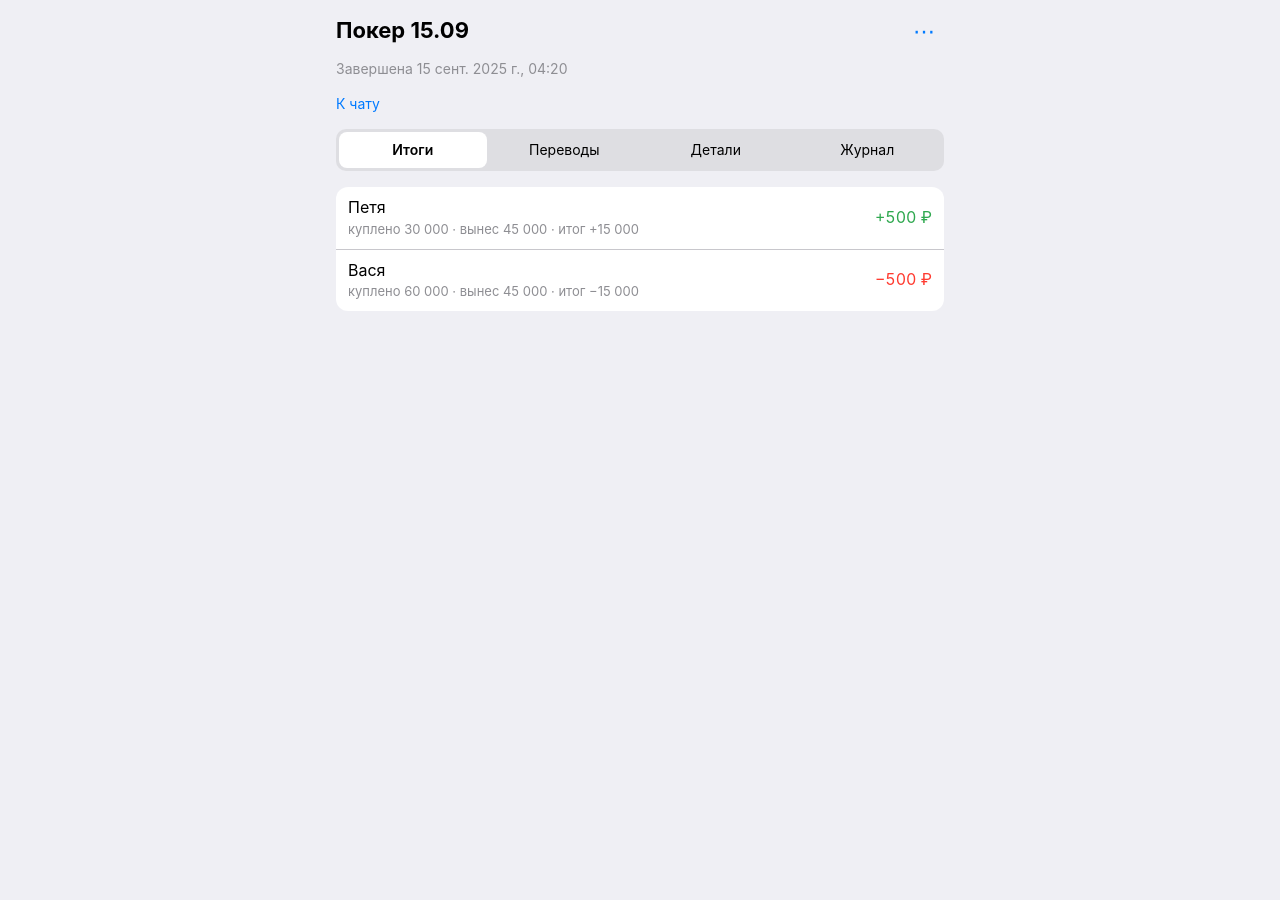
finished game menu › offers the running game when another one is active
Step 1. Click the button named "Меню" → (924, 32), box 904,12 -> 944,52
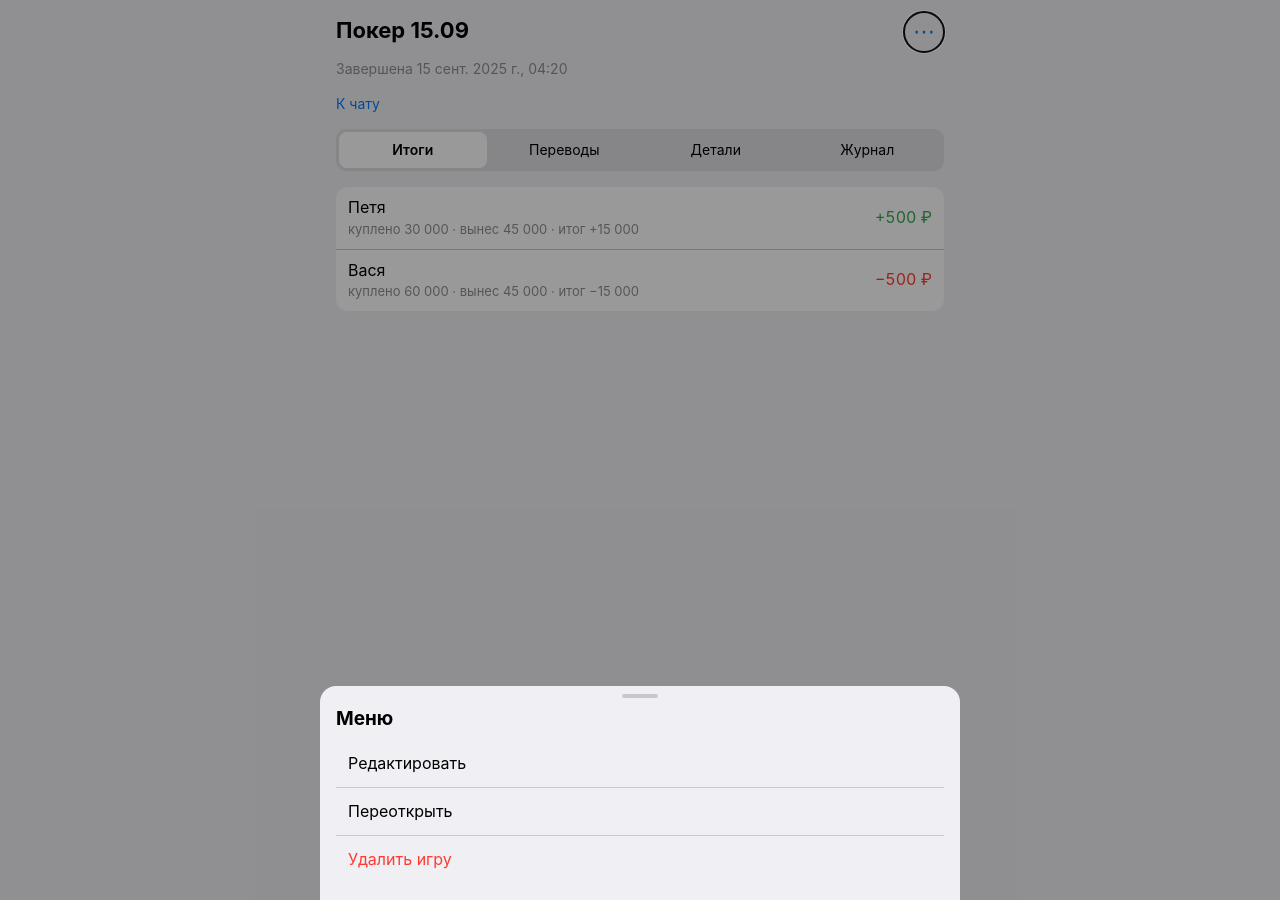
Step 2. Click the button "Переоткрыть" → (400, 811), box 336,788 -> 944,836
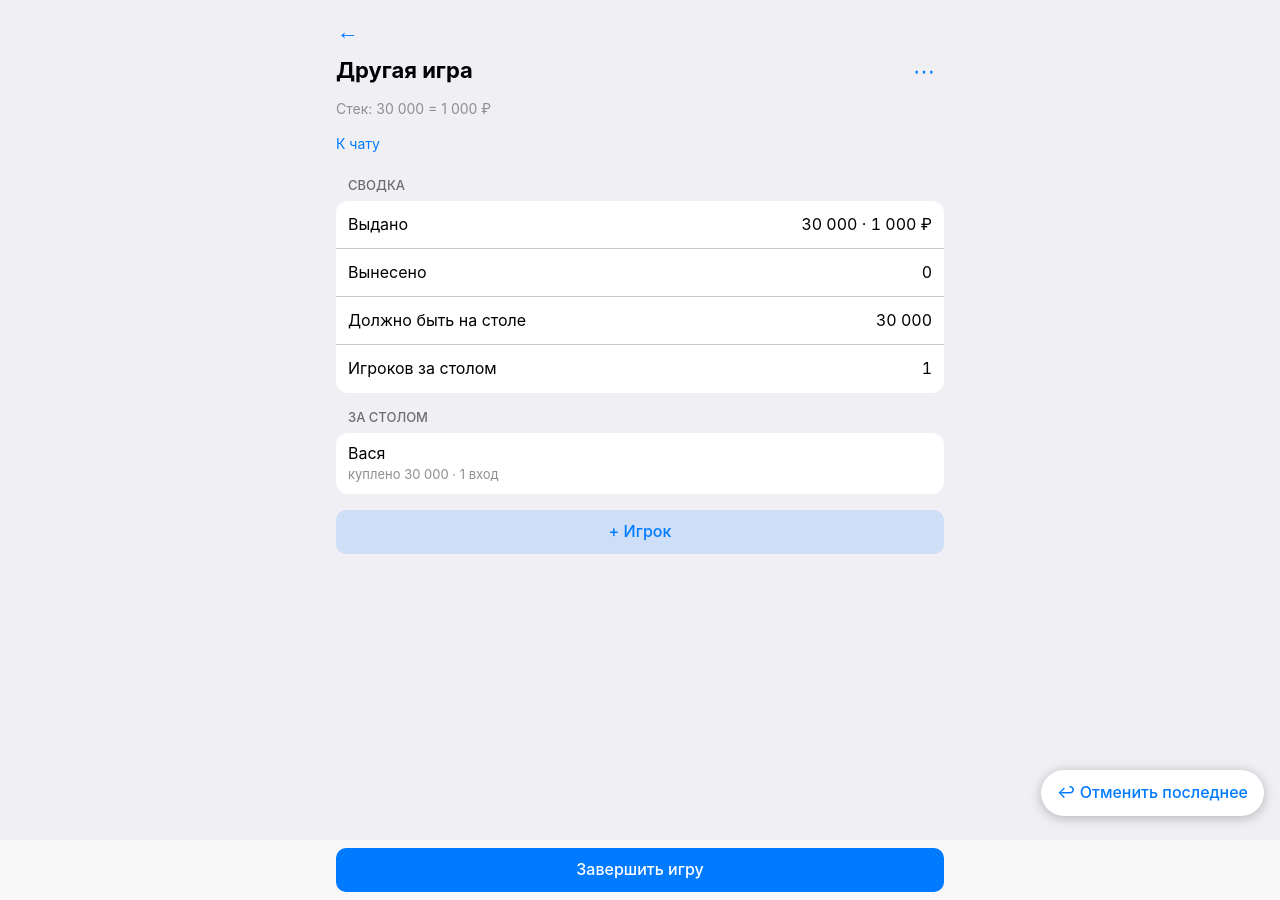
Check: the heading "Другая игра" is shown, box 336,56 -> 491,86
